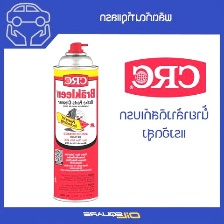aerosol_cans: (50, 39, 101, 204)
